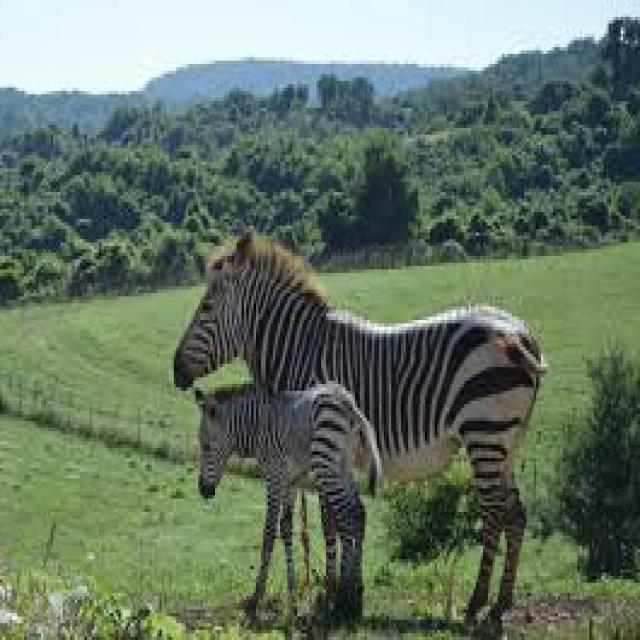zebra: (176, 229, 546, 627)
